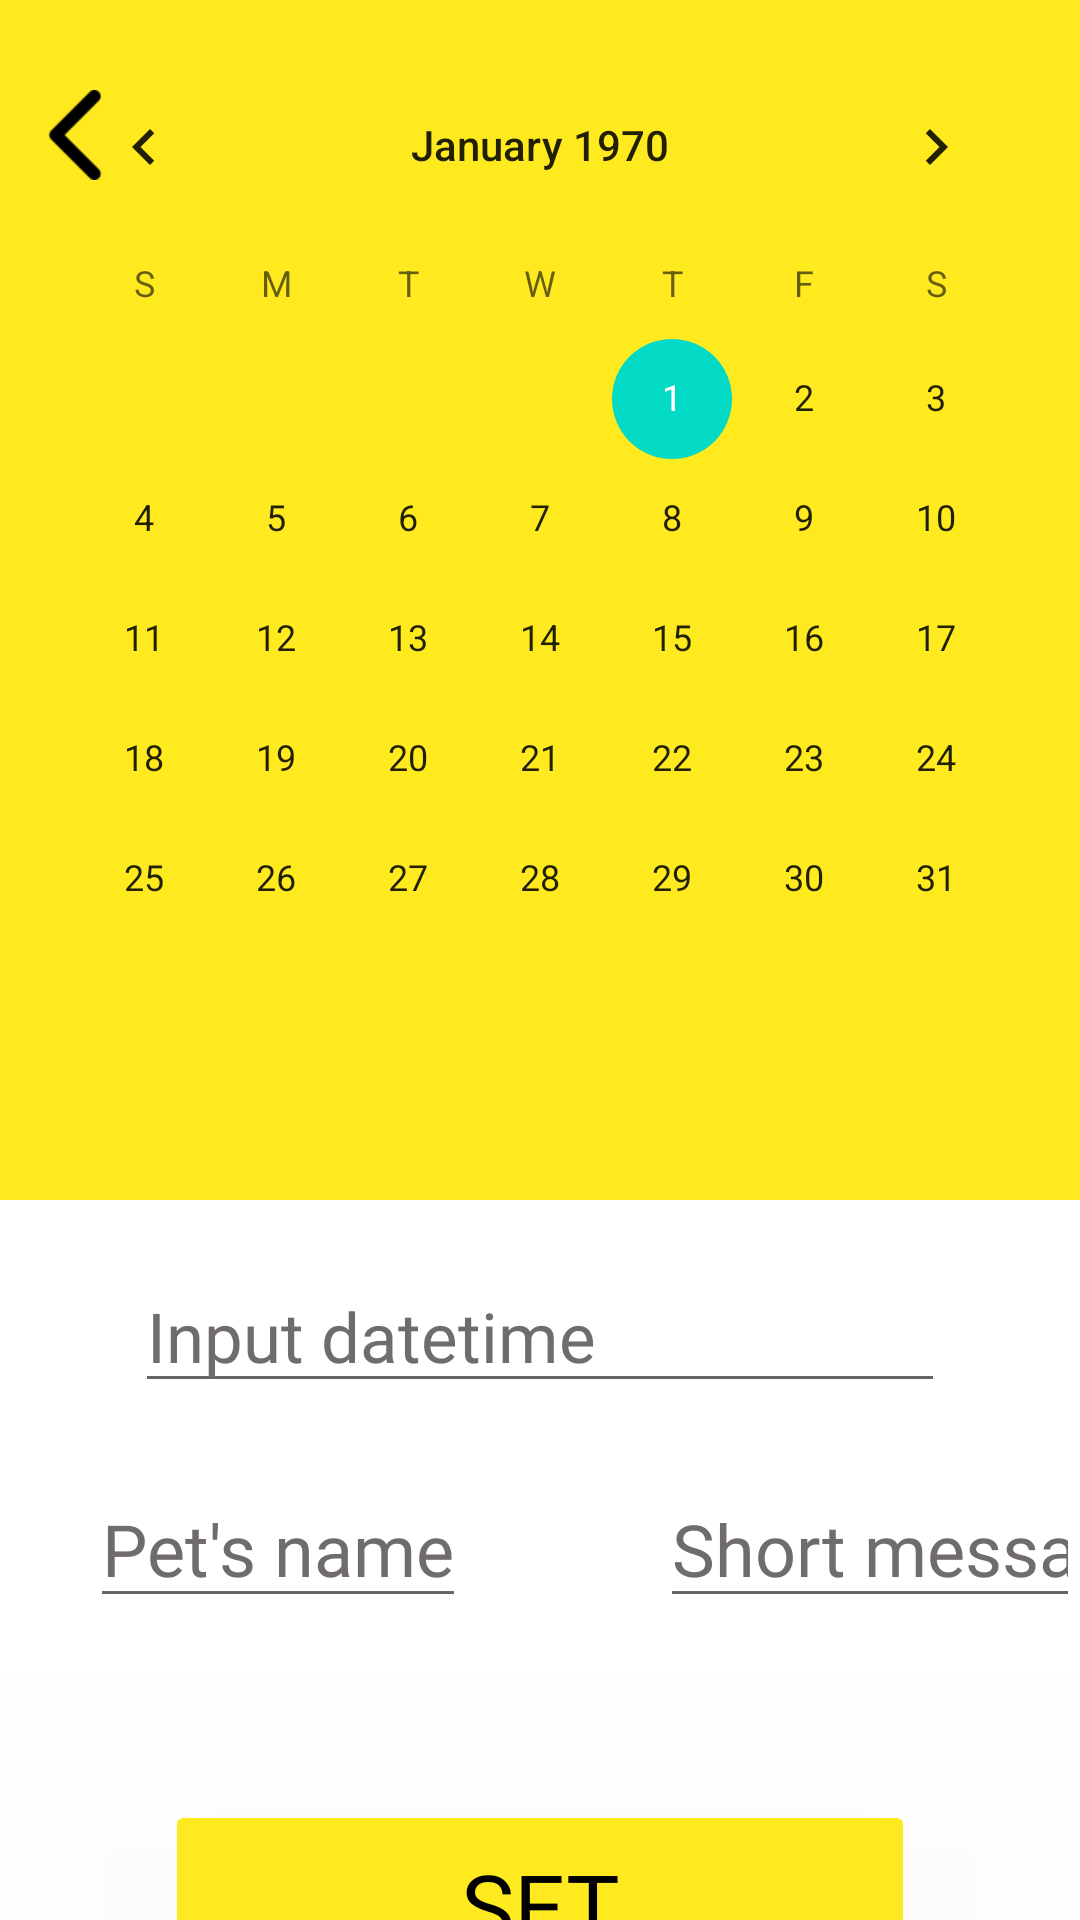

Icons on this 1080w x 1920h Android screen, each with its box as (x1, y1, x2, y2):
back: (48, 90, 102, 180)
